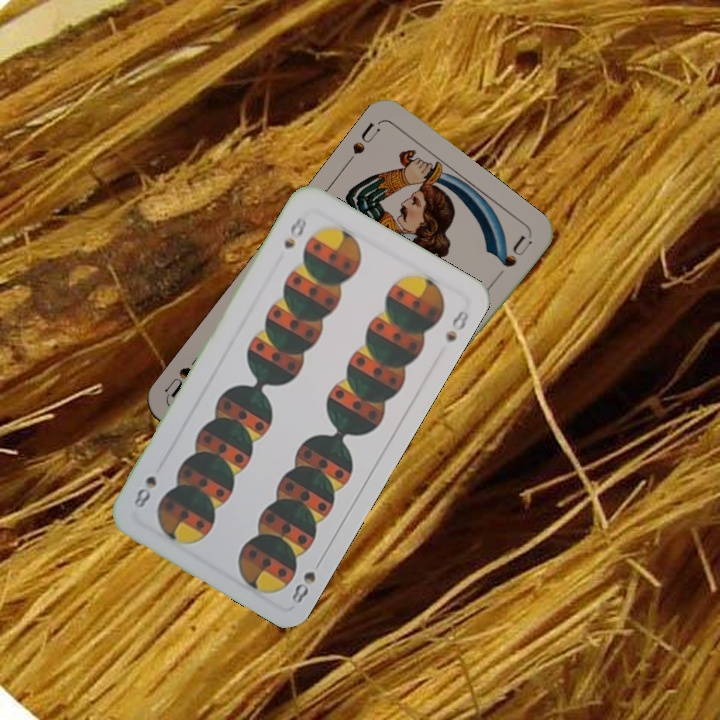S8: (287, 553, 326, 606), (279, 212, 310, 252)
SU: (348, 118, 383, 157)
